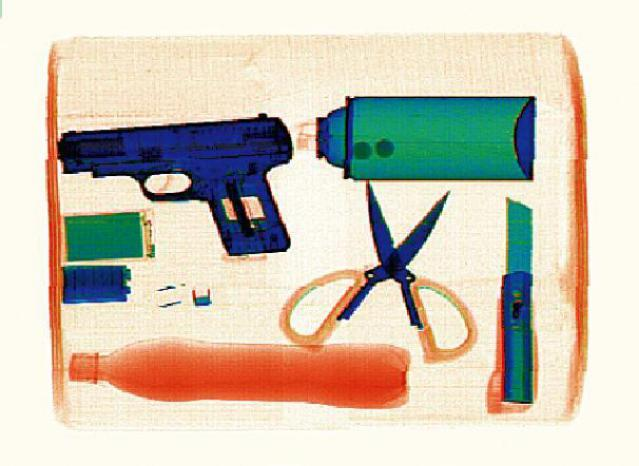Gun: (53, 112, 294, 255)
Knife: (272, 177, 481, 361)
